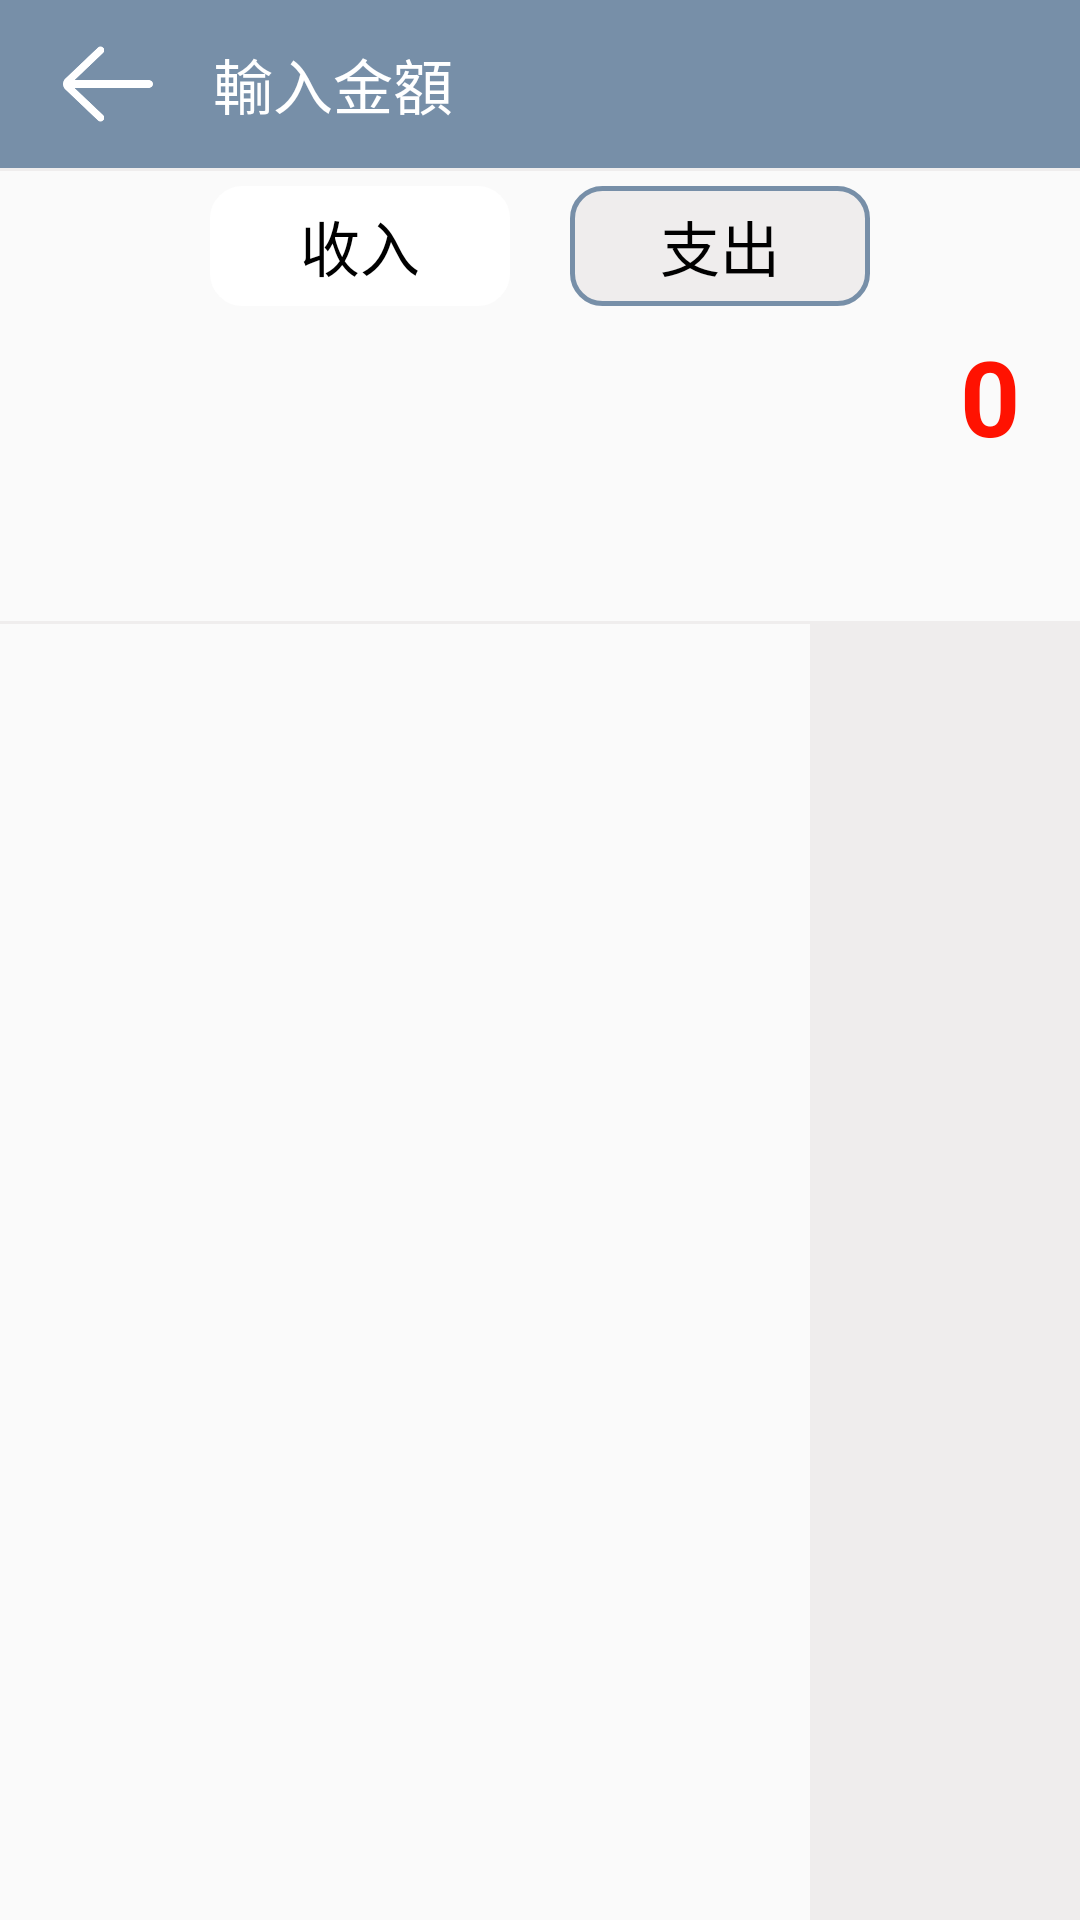

Icon click points for this 1080px x 1920px phone screenshot, format [x,y]:
left arrow: [108,84]
